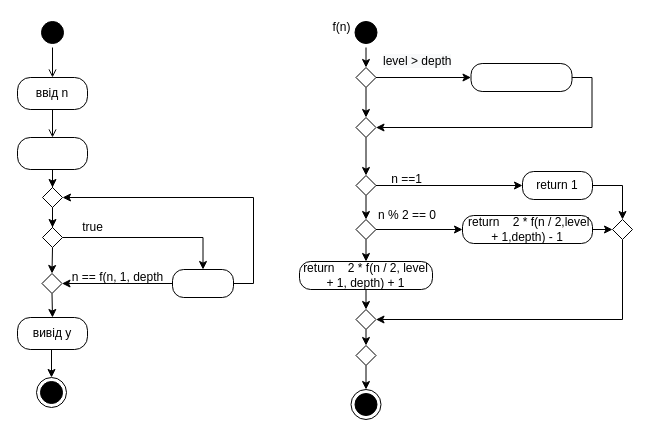
Image size: 650x437. Some labels were removed from this diagram. Here are the shapes that lost their labels. From the top down, the box of each, then its label:
(470, 62, 572, 92): return 2 *f(n/2) +1
(16, 136, 88, 170): x, depth
(172, 268, 234, 298): n = f(n, 1, depth)
